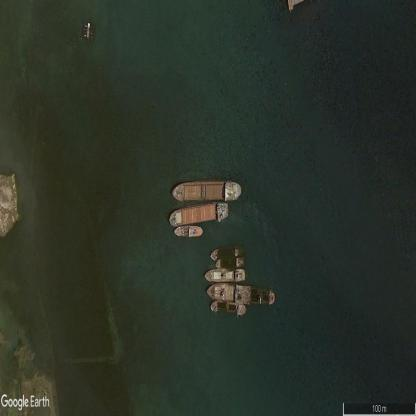ship: (206, 284, 275, 306), (172, 180, 242, 201), (169, 204, 229, 227), (204, 268, 248, 284), (211, 300, 246, 316), (210, 245, 244, 259), (215, 256, 244, 269), (173, 227, 203, 238)
